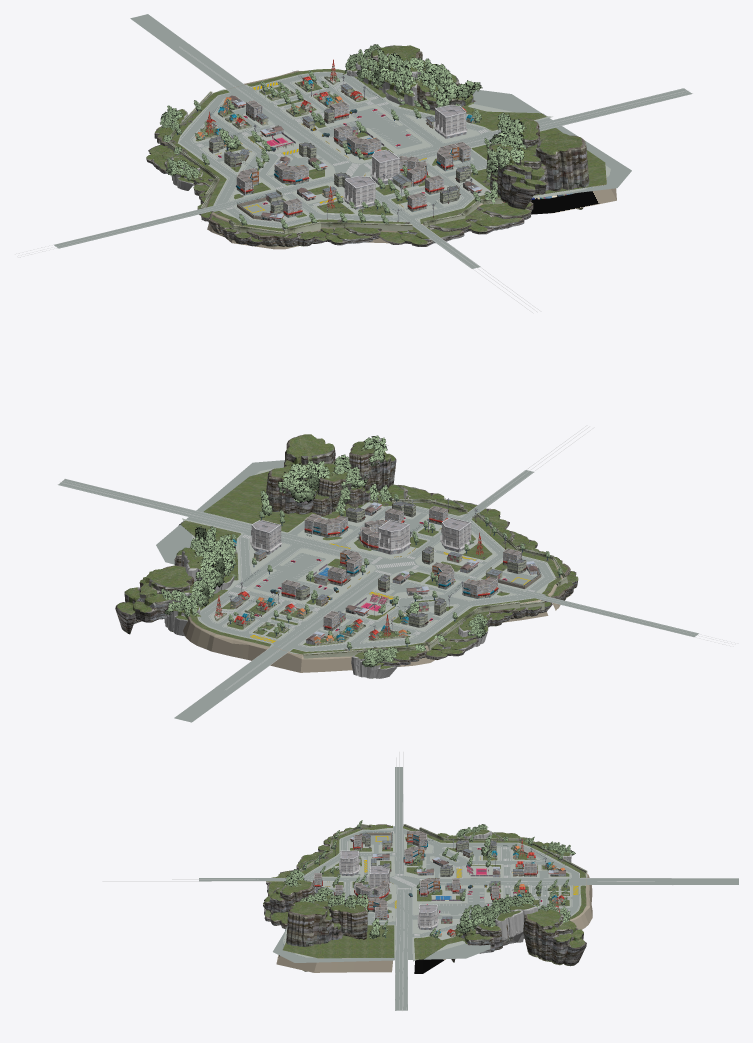
Rendered from rolla_city.gltf.
3 renders of one model, top to bottom at view 1: azimuth 30°, elevation 25°; view 2: azimuth 150°, elevation 25°; view 3: azimuth 270°, elevation 25°, orthographic. The views are drawn at different scales.
Visible parts, largest first — view 1: road__27287, snow__27016, grass__22803, Plane_005__26135, vuori__6___15262, vuori__15112, grass_001__19106, vuori__19___15257, vuori__18___15270, vuori__17___15261, vuori__16___15252, vuori__15111 (+4 smaller); view 2: road__27287, snow__27016, grass__22803, Plane_005__26135, grass_001__19106, vuori__3___15266, vuori__15112, vuori__6___15262, vuori__15114, vuori__12___15263, vuori__15108, vuori__15117 (+2 smaller); view 3: road__27287, grass__22803, snow__27016, vuori__3___15266, Plane_005__26135, grass_001__19106, vuori__6___15262, vuori__15114, vuori__15112, vuori__1___15277, vuori__15113.
Part boxes in pixels (<box>): road__27287: <box>54,14,692,268</box>; snow__27016: <box>177,71,610,228</box>; grass__22803: <box>171,69,606,231</box>; Plane_005__26135: <box>15,44,692,313</box>; vuori__6___15262: <box>525,133,589,209</box>; vuori__15112: <box>497,147,546,209</box>; grass_001__19106: <box>170,70,616,249</box>; vuori__19___15257: <box>467,199,533,234</box>; vuori__18___15270: <box>377,214,471,246</box>; vuori__17___15261: <box>312,226,381,245</box>; vuori__16___15252: <box>246,230,326,247</box>; vuori__15111: <box>382,53,419,105</box>; road__27287: <box>58,460,698,722</box>; snow__27016: <box>182,468,556,654</box>; grass__22803: <box>181,471,561,654</box>; Plane_005__26135: <box>57,425,738,690</box>; grass_001__19106: <box>179,517,570,672</box>; vuori__3___15266: <box>115,565,194,634</box>; vuori__15112: <box>349,441,396,492</box>; vuori__6___15262: <box>284,434,335,466</box>; vuori__15114: <box>266,464,318,514</box>; vuori__12___15263: <box>425,625,478,659</box>; vuori__15108: <box>318,463,351,508</box>; vuori__15117: <box>351,651,396,678</box>; road__27287: <box>199,767,738,1010</box>; grass__22803: <box>283,825,586,959</box>; snow__27016: <box>283,826,587,961</box>; vuori__3___15266: <box>523,909,586,966</box>; Plane_005__26135: <box>102,752,672,1010</box>; grass_001__19106: <box>276,827,592,973</box>; vuori__6___15262: <box>286,901,343,971</box>; vuori__15114: <box>329,904,367,939</box>; vuori__15112: <box>264,880,314,914</box>; vuori__1___15277: <box>451,923,513,962</box>; vuori__15113: <box>493,910,523,943</box>.
Bounding box in the file's own units: 1524 × 187 × 1683.
